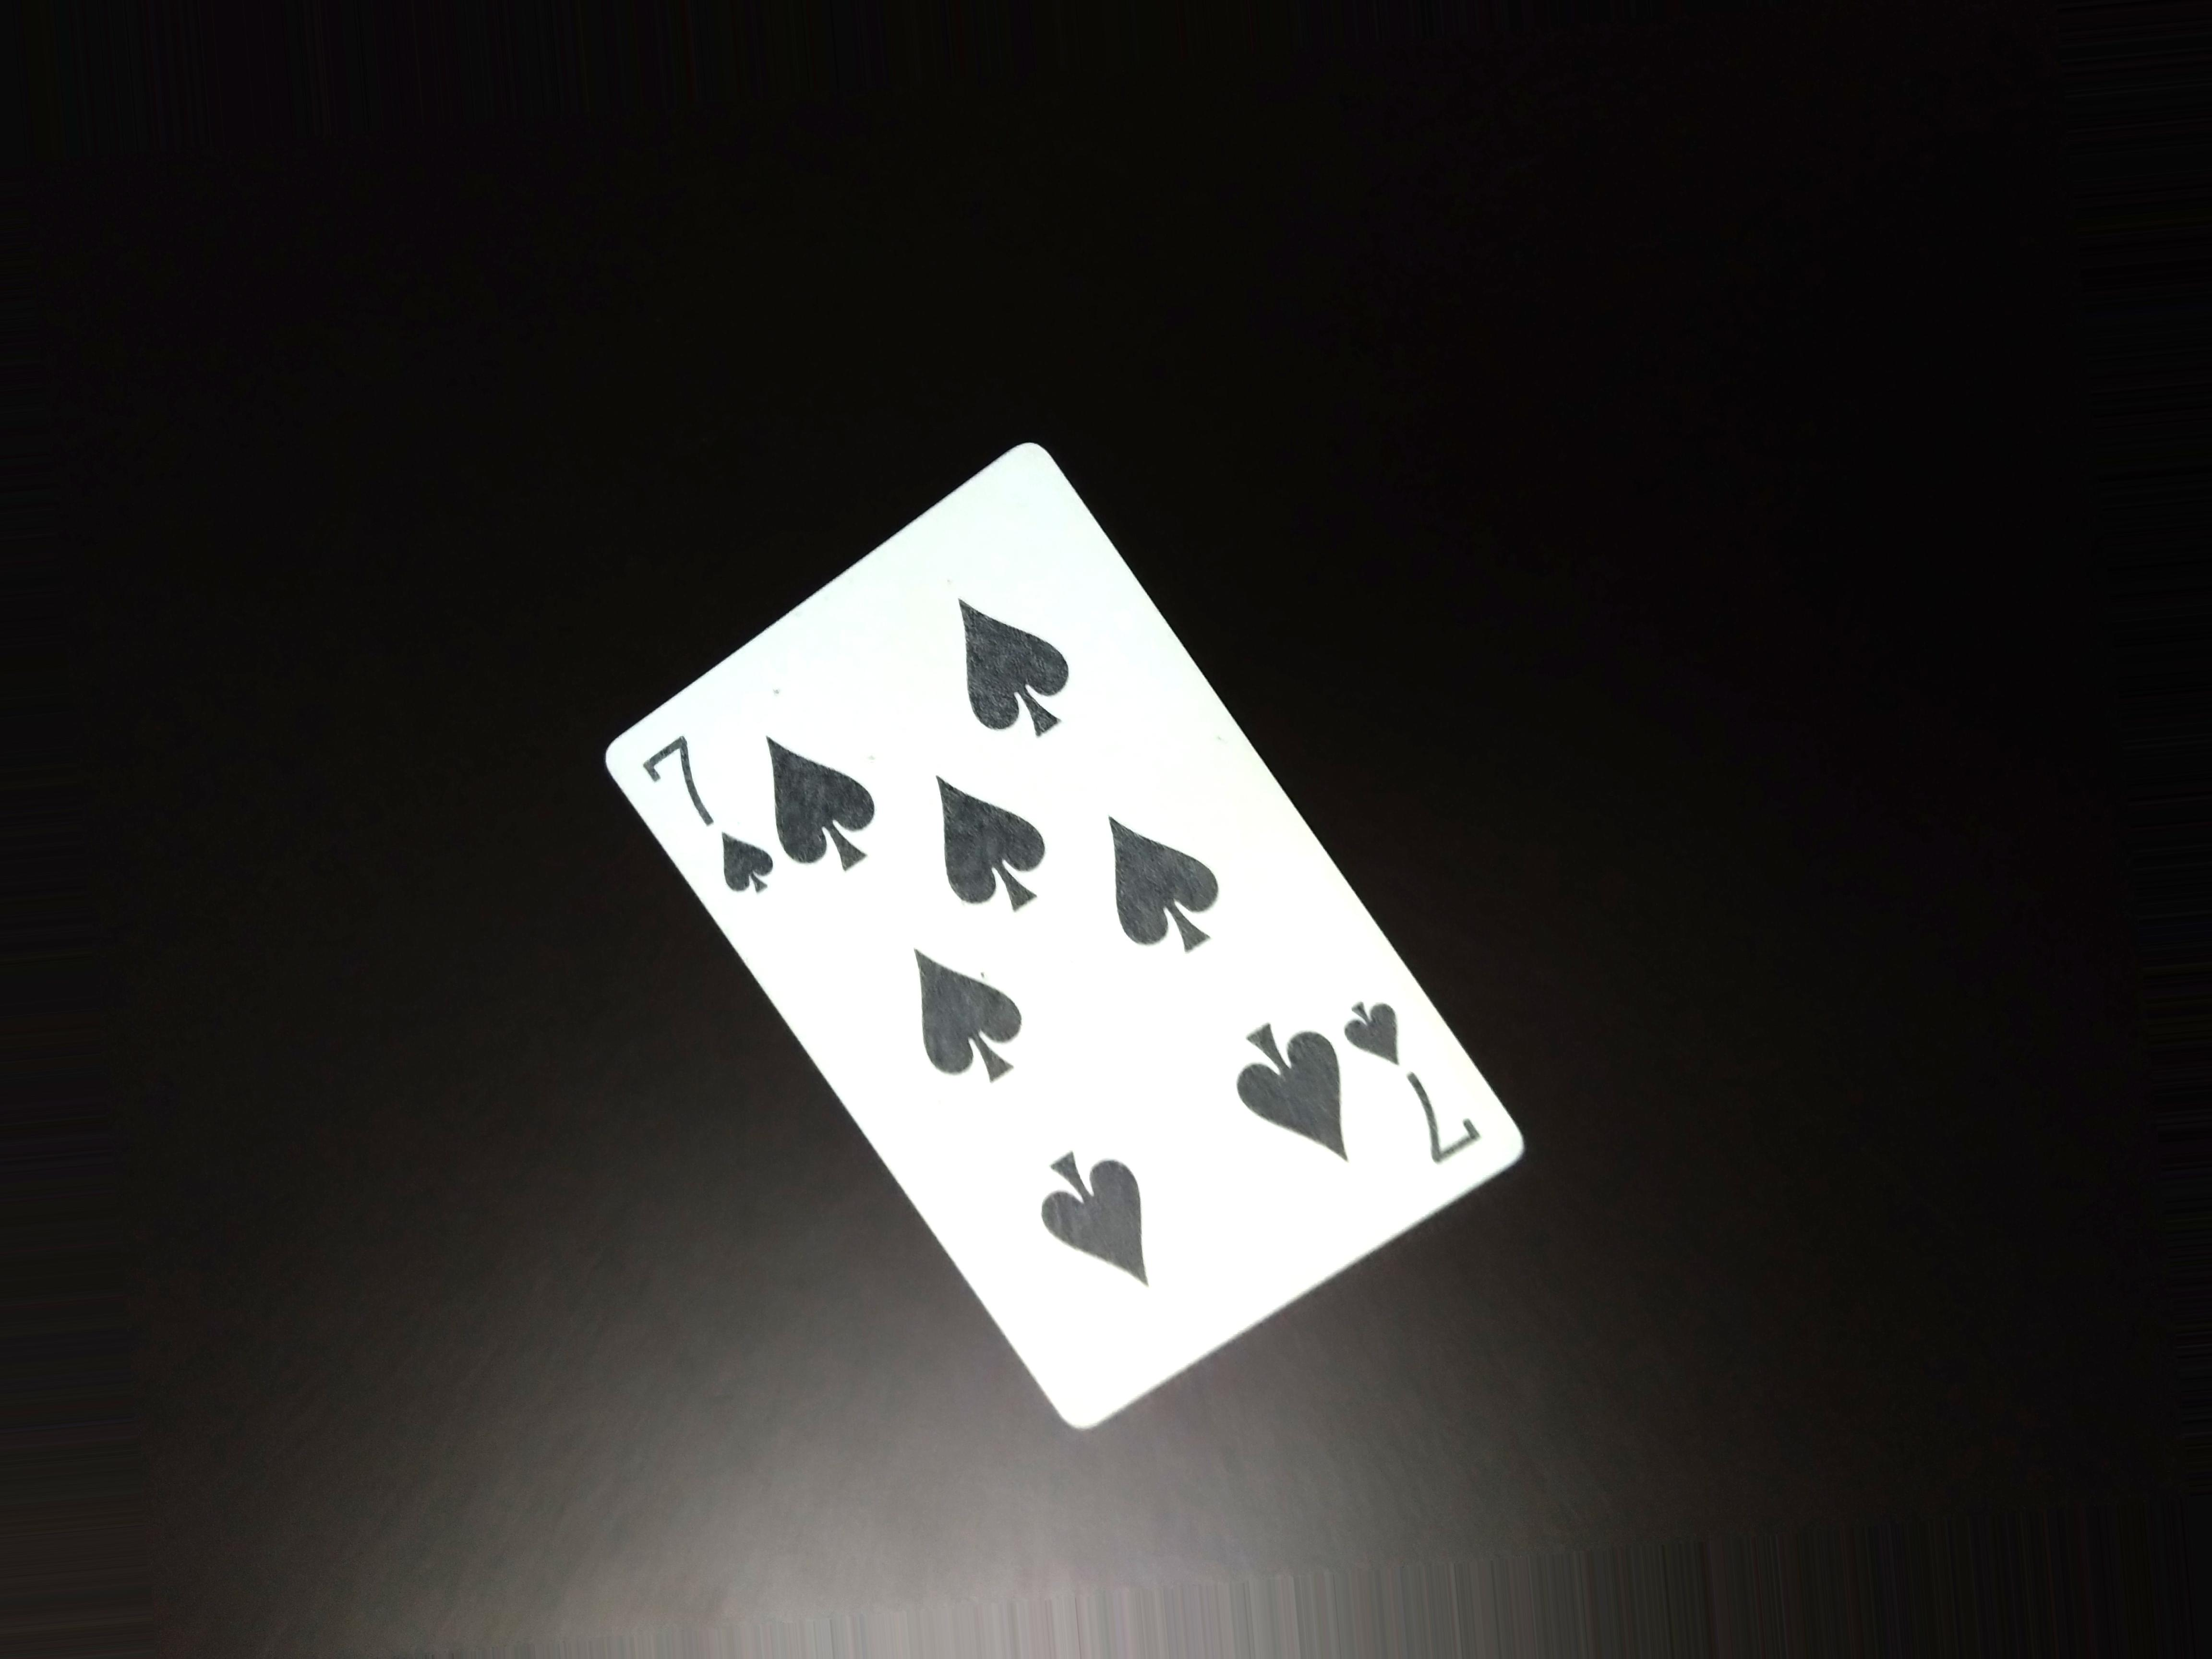7S: (1341, 986, 1500, 1209)
